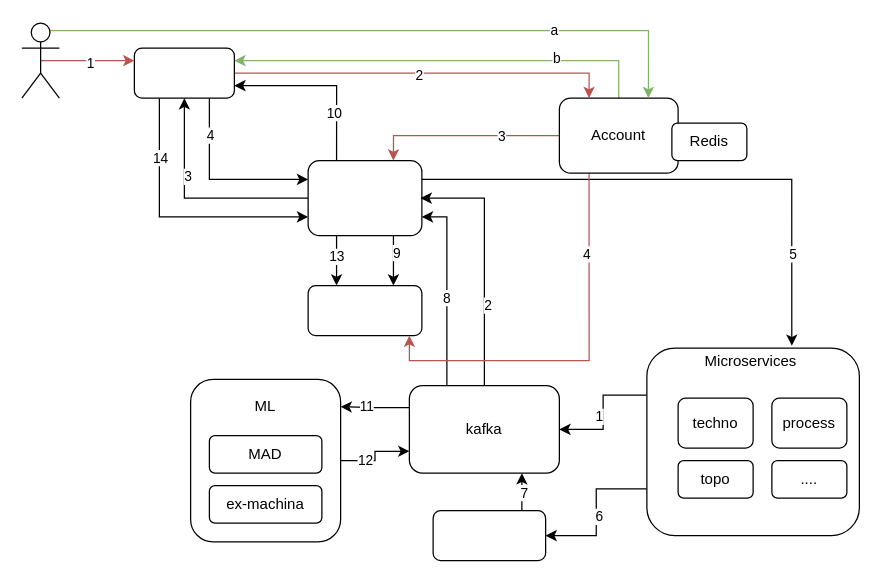
The diagram is 881 pixels wide and 583 high, and some of its shapes have lost their labels. The shapes that lost their labels are listed below. From the top down, each one's centre as x and y in pixels, then its label:
At point 40,60: "user".
At point 183,72: "Minima".
At point 364,197: "Becky".
At point 364,310: "OpenDistro".
At point 489,535: "logstash".
